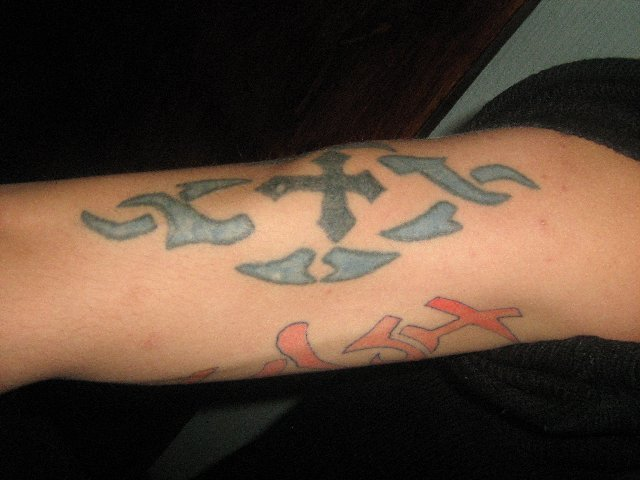tatu9_krest: (259, 161, 391, 232)
